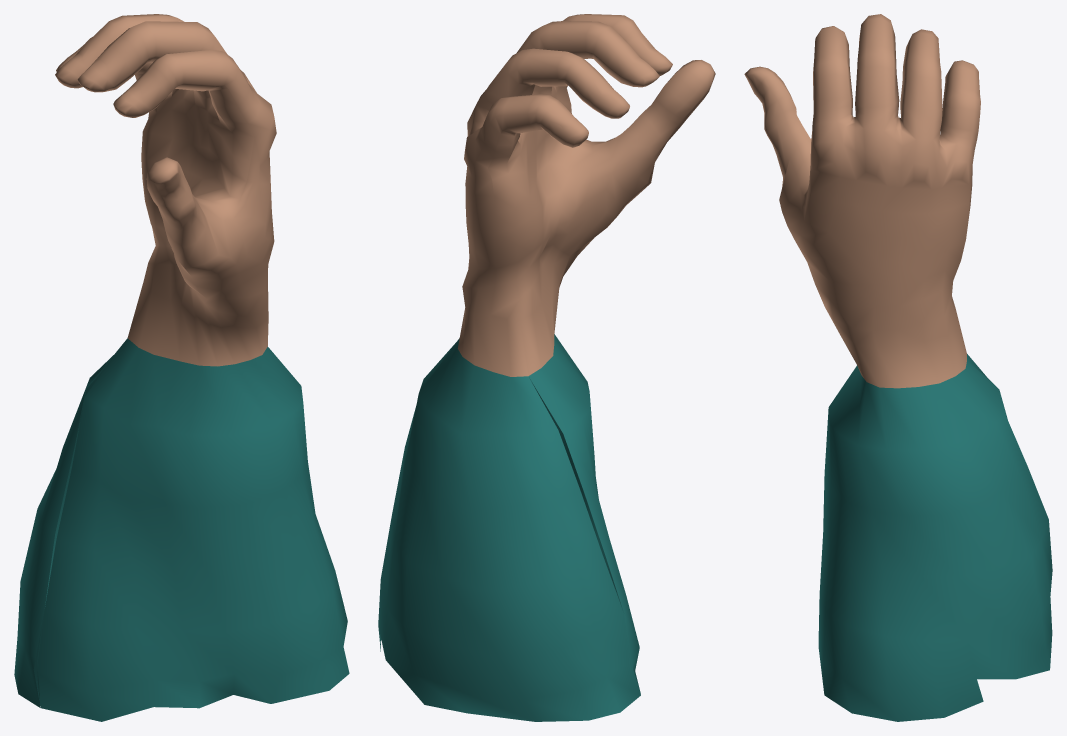
Rendered from pov_grip.glb.
3 renders of one model, left to right at view 1: azimuth 30°, elevation 25°; view 2: azimuth 150°, elevation 25°; view 3: azimuth 270°, elevation 25°, orthographic. The views are drawn at different scales.
Visible parts, largest first — view 1: pov_grip; view 2: pov_grip; view 3: pov_grip.
Part boxes in pixels (left/top/right/bottom): pov_grip: left=14, top=14, right=349, bottom=721; pov_grip: left=378, top=14, right=715, bottom=721; pov_grip: left=744, top=14, right=1052, bottom=721.
Bounding box in the file's own units: 0.169 × 0.39 × 0.1769.
